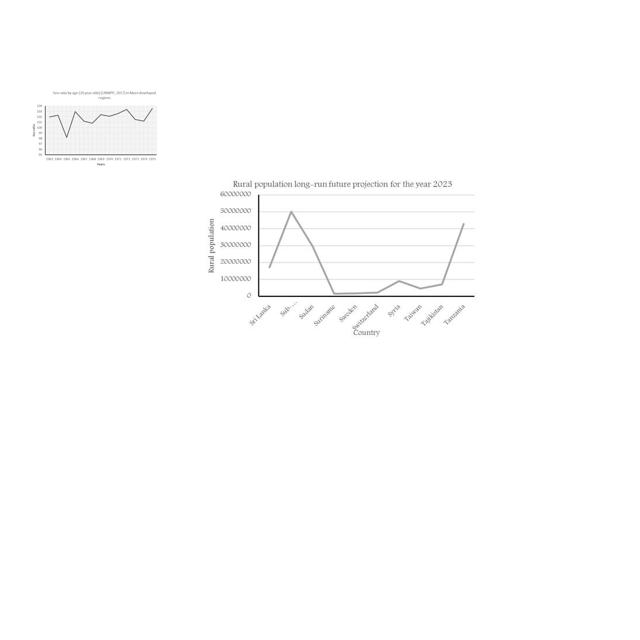Graph: (206, 175, 478, 339), (29, 89, 159, 168)
